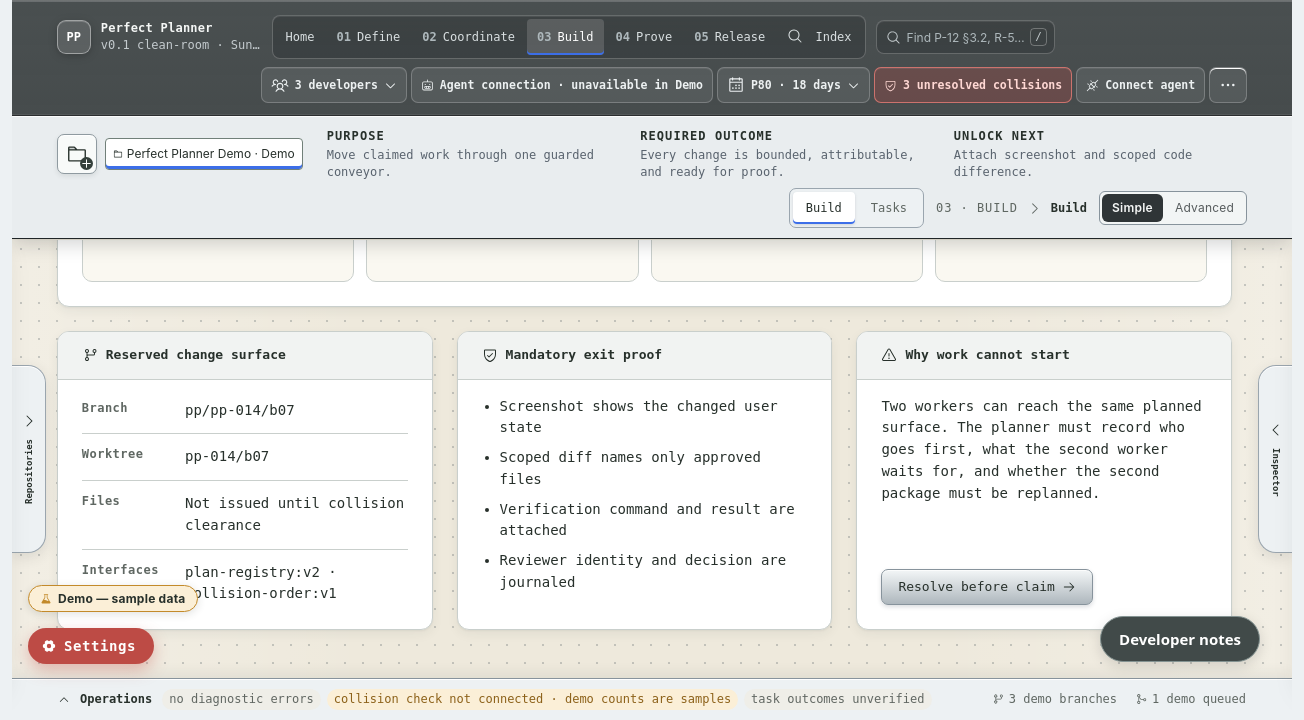
Test: demo stage controls › Build: blocked gate offers Resolve before claim, which opens Collision control
The image size is (1304, 720).
(page scrolled)
Expected: the element named "Build workspace" is shown, [12,240,1292,678]
Expected: the text "Why work cannot start" is shown, [905,347,1070,364]
Click the button "Resolve before claim". click: coordinates (987, 587)
box: [881,569,1093,605]
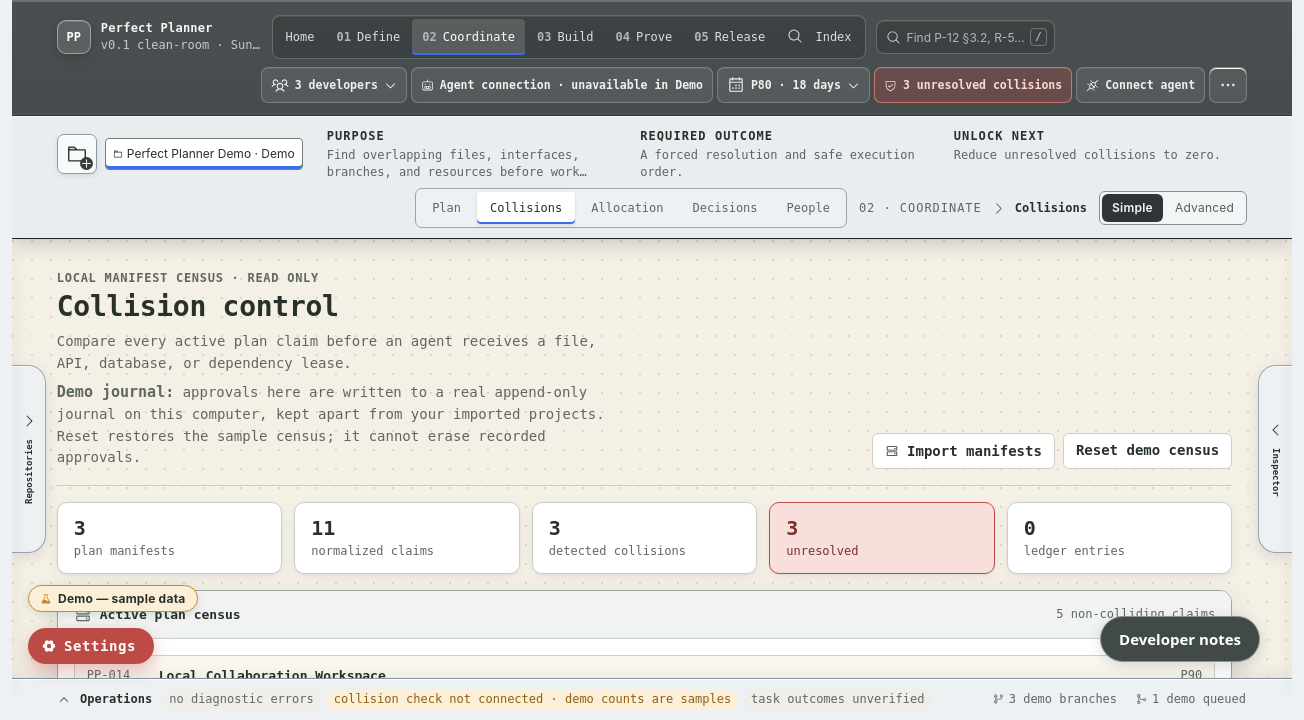
Expected: the element named "Collision assessment workspace" is shown, [12,240,1292,678]
